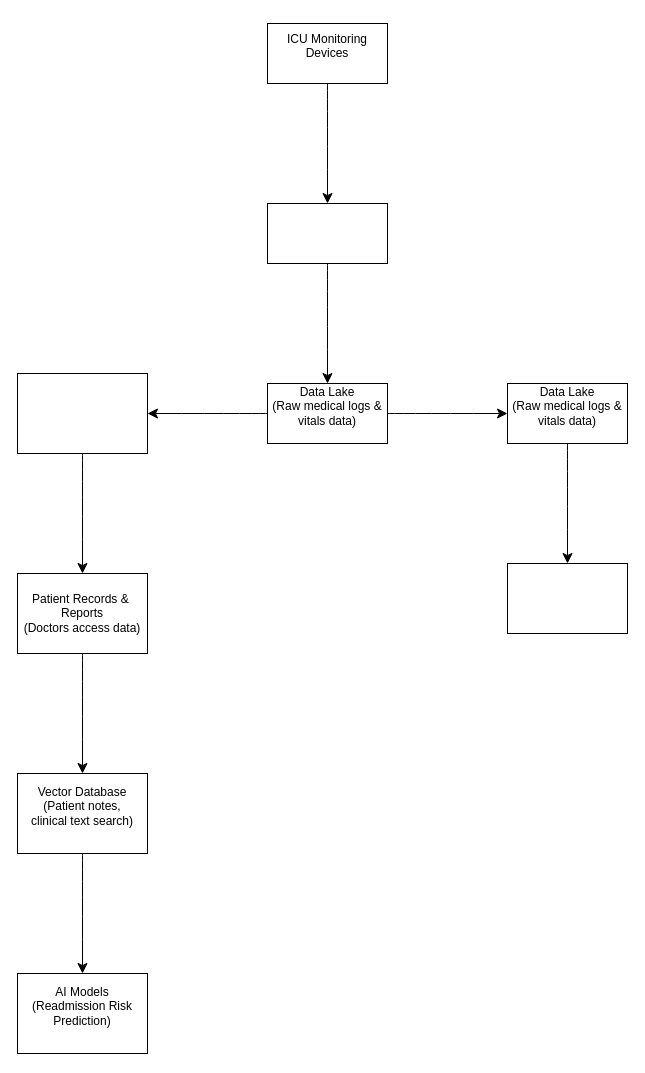
This 645x1073 diagram has some shape labels left out. The shapes that lost their labels are listed below. From the top down, each one's centre as x and y in pixels, then its label:
At point (327, 233): "Real-Time Streaming (Kafka)".
At point (82, 413): "Transactional Database Data Warehouse (PostgreSQL / MySQL)".
At point (567, 598): "Monthly Reports (Doctors access data) (Management Dashboard)".
